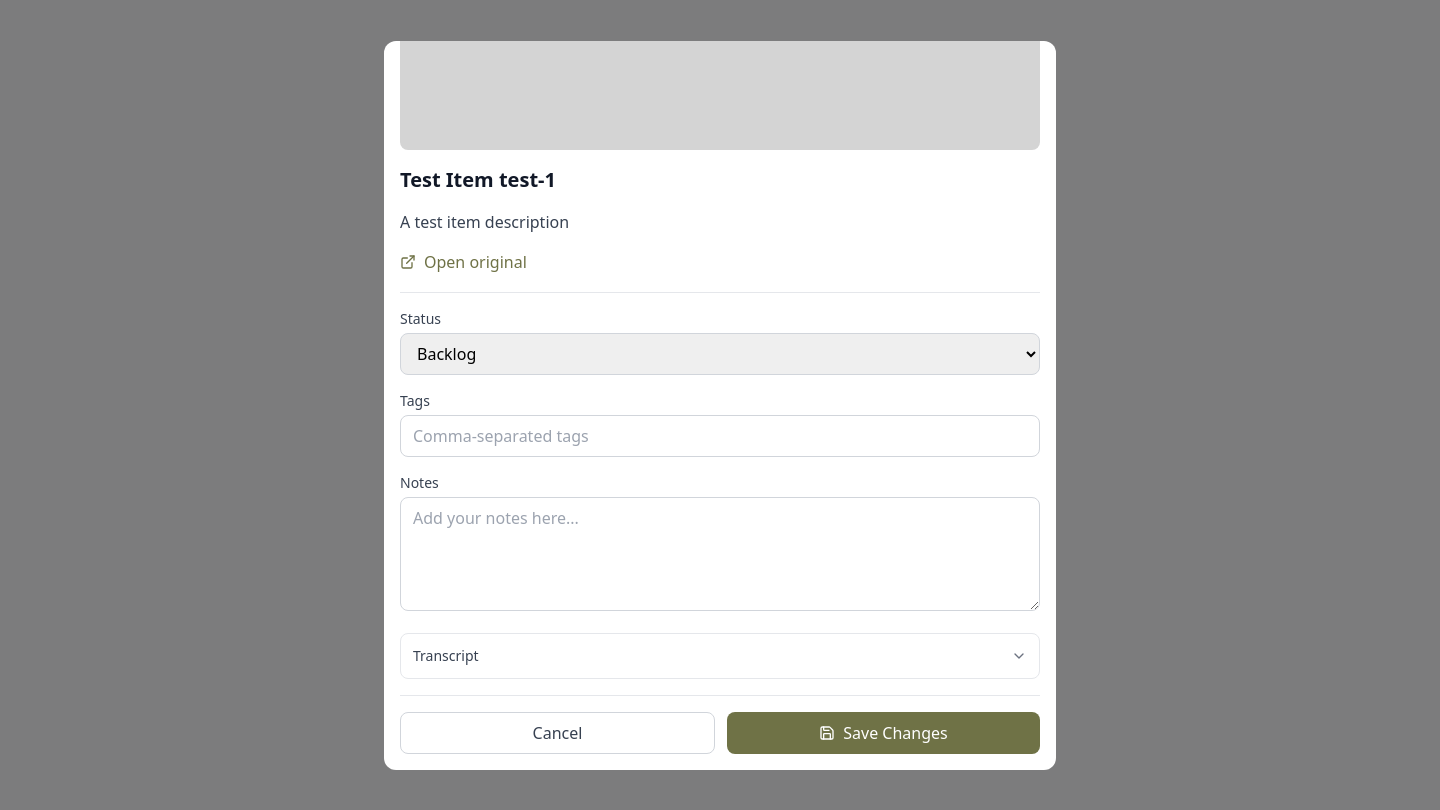
Test: InterestDetail › transcript section (YouTube) › displays transcript when loaded
(page scrolled)
What coordinates should you click on to do the following:
click the button "Transcript"
I would click on:
 (446, 655)
Its box is [401,634,1039,678].
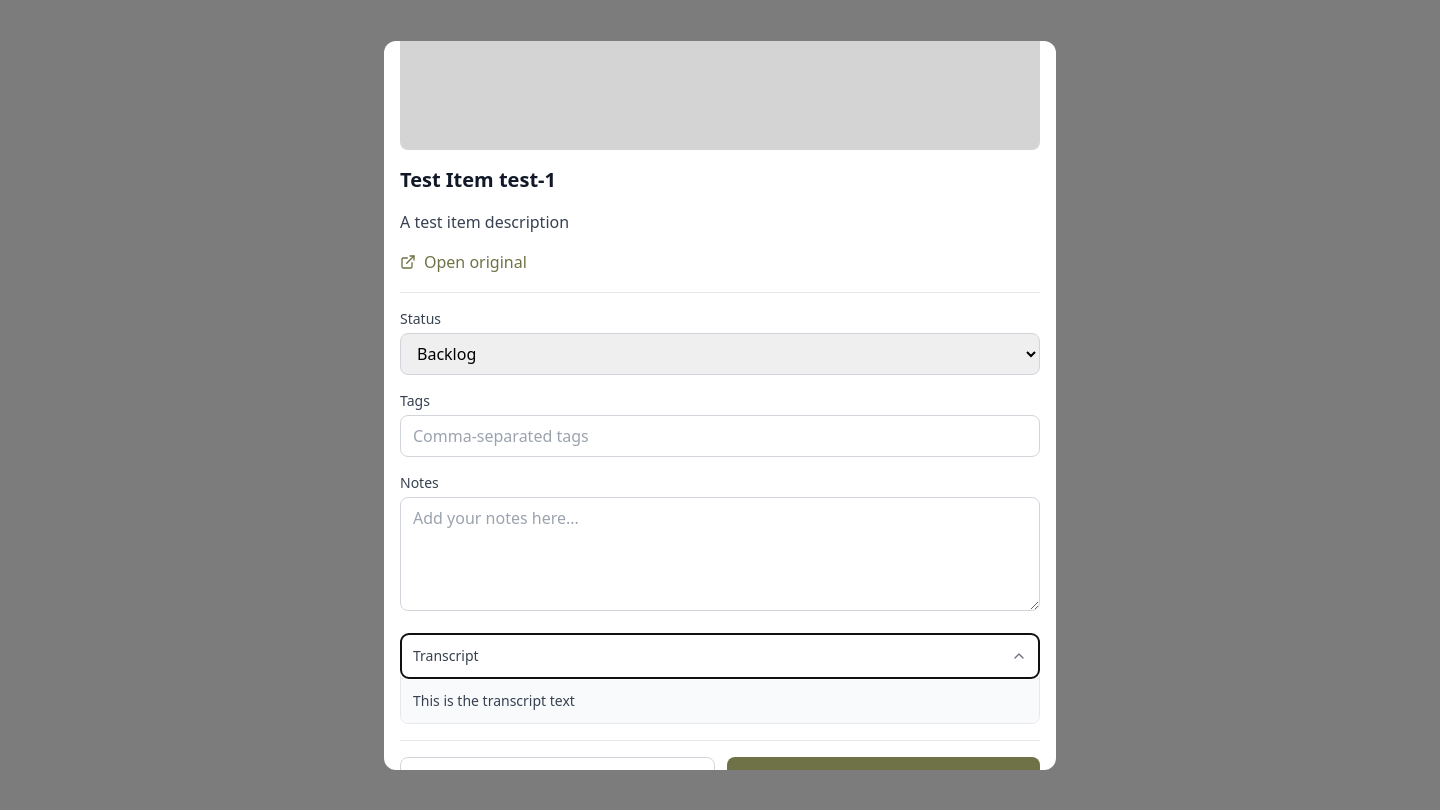
Expected: the text "This is the transcript text" is shown, [413,690,575,710]
